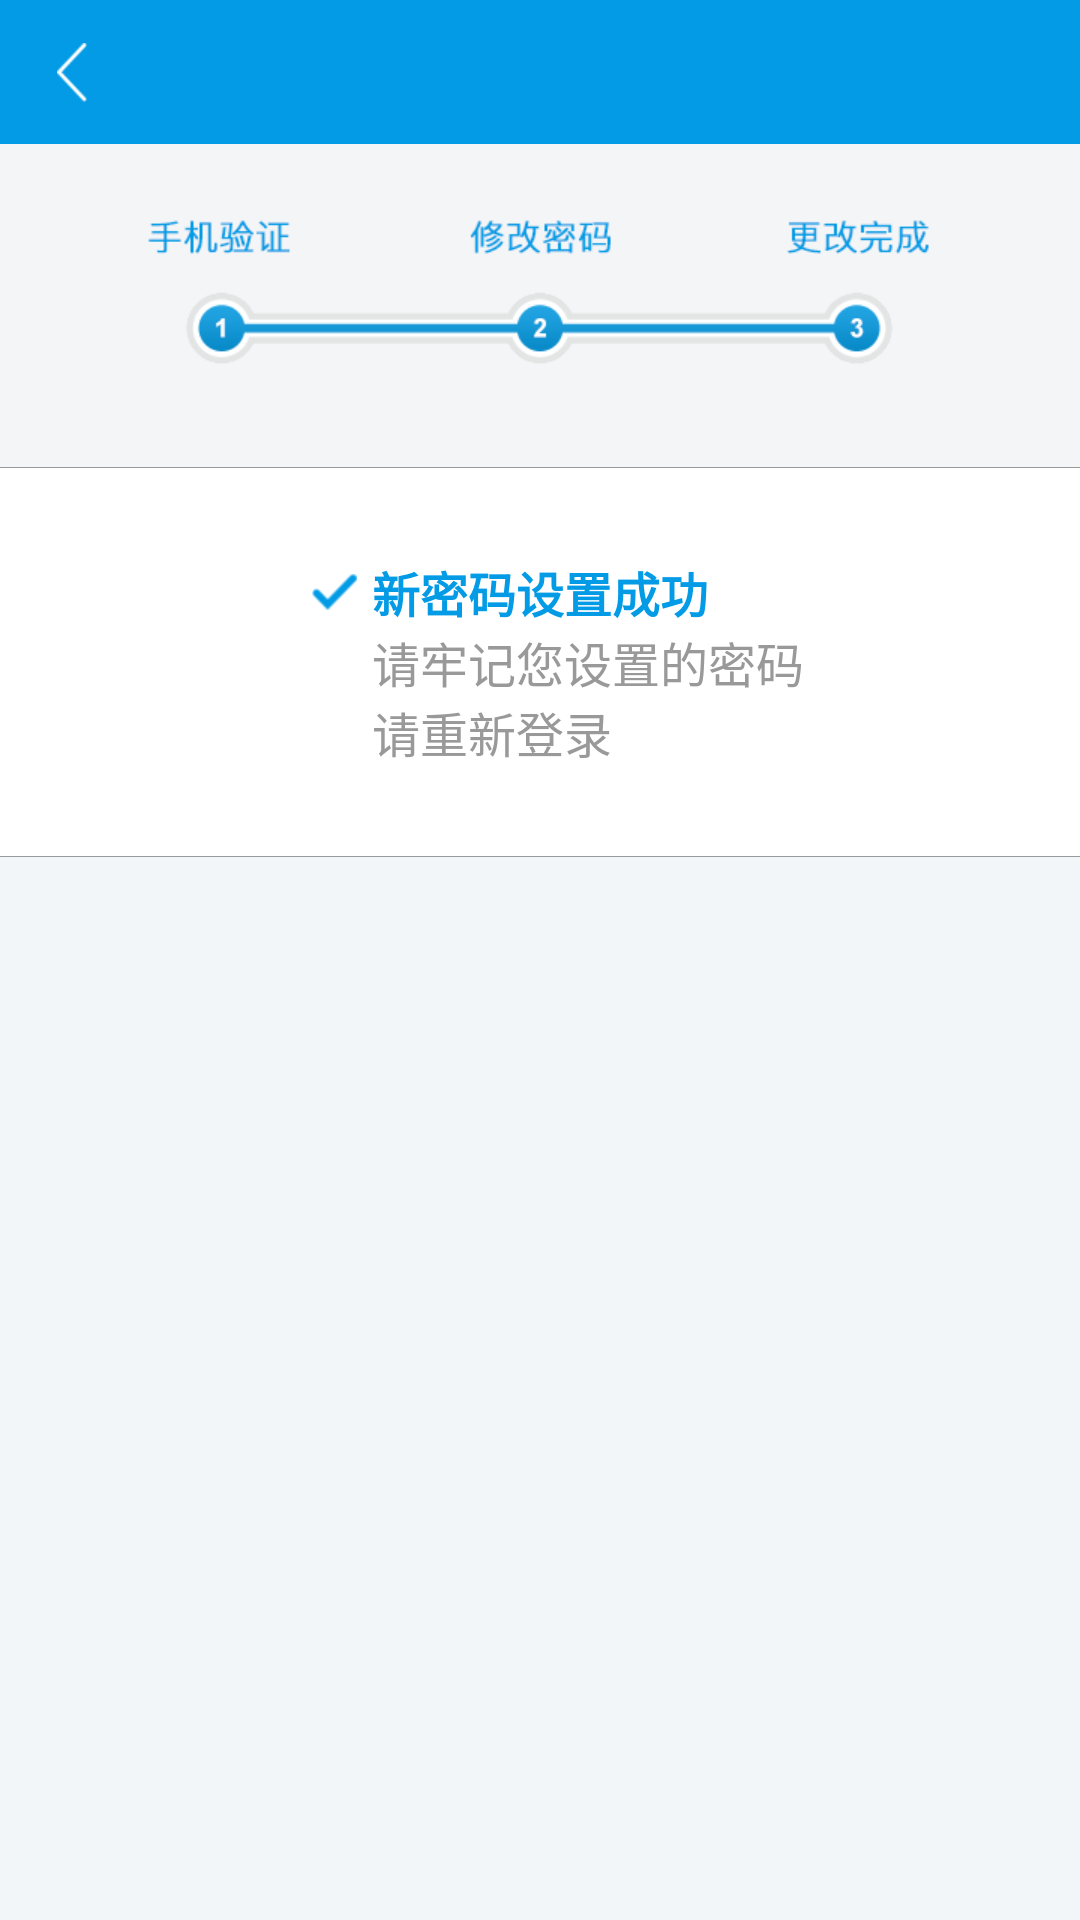

Icons on this 1080w x 1920h Android screen, each with the point to tap as [x,y]:
arrow left: [72,72]
tick: [334,592]
